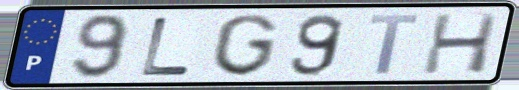9: (70, 12, 132, 81), (286, 12, 345, 77)
G: (209, 13, 281, 79)
H: (419, 11, 503, 76)
L: (138, 15, 196, 78)
T: (367, 12, 423, 76)
